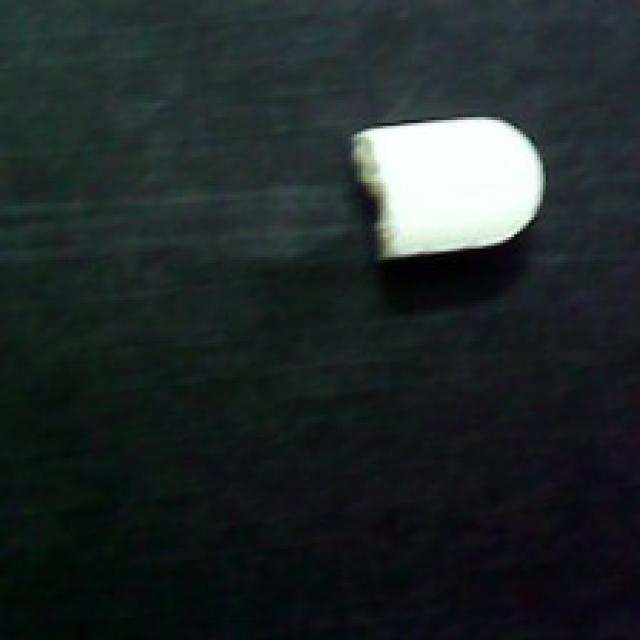defected: (346, 108, 556, 268)
